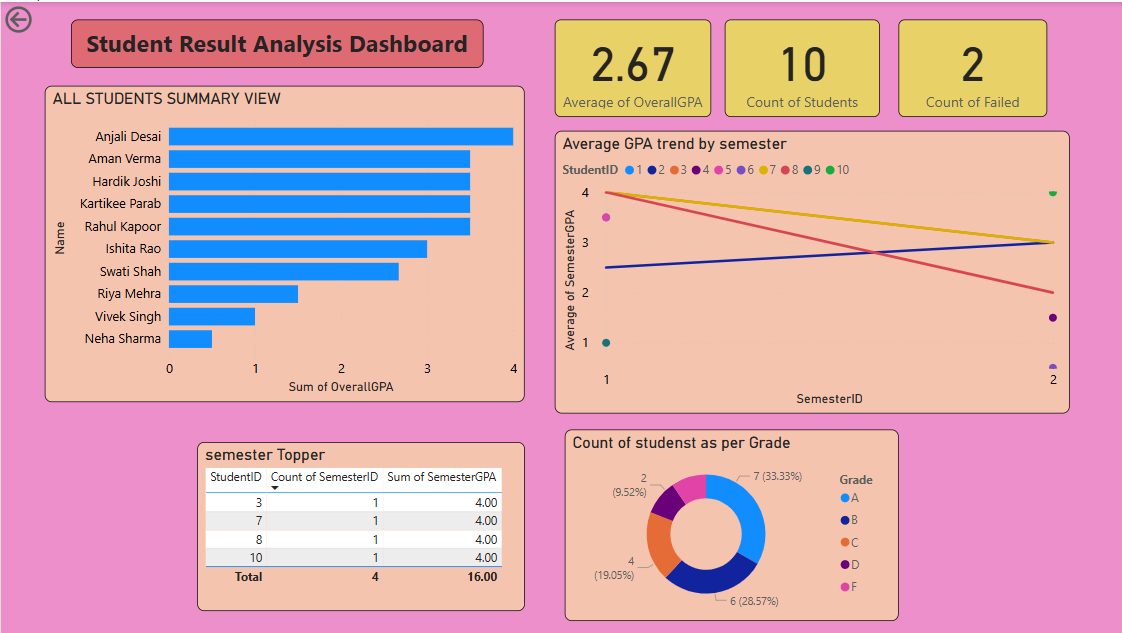

What the dashboard file says about the page in this screenshot:
{"tool":"powerbi","page":{"name":"Page 1","canvas":[1280,720],"ordinal":0},"visuals":[{"type":"barChart","title":"ALL STUDENTS SUMMARY VIEW","fields":{"Category":["AllStudentsSummaryView.Name"],"Y":["AllStudentsSummaryView.OverallGPA"]},"box":[49.9,95.5,547.3,360.6],"z":0},{"type":"card","fields":{"Values":["AllStudentsSummaryView.OverallGPA"]},"box":[631.4,20,178.2,111.2],"z":1000},{"type":"card","fields":{"Values":["AllStudentsSummaryView.StudentID"]},"box":[825.3,20,176.7,111.2],"z":2000},{"type":"card","fields":{"Values":["FailedSubjects.Marks"]},"box":[1023.4,20,169.6,111.2],"z":3000},{"type":"lineChart","title":"Average GPA trend by semester","fields":{"Category":["SemesterGPAView.SemesterID"],"Y":["SemesterGPAView.SemesterGPA"],"Series":["SemesterGPAView.StudentID"]},"box":[631.4,146.8,587.3,322.1],"z":4000},{"type":"tableEx","title":"semester Topper","fields":{"Values":["SemesterTopperView.StudentID","SemesterTopperView.SemesterID","SemesterTopperView.SemesterGPA"]},"box":[223.8,501.7,373.5,192.4],"z":4001},{"type":"actionButton","box":[0,0,100,40],"z":4002},{"type":"textbox","box":[79.8,20,470.4,55.6],"z":4003},{"type":"donutChart","title":"Count of studenst as per Grade","fields":{"Category":["StudentFullResult.Grade"],"Y":["StudentFullResult.Grade"]},"box":[642.9,487.5,380.6,218.1],"z":4004}]}

Visuals, with their boxes in screenshot pixels (x1, y1, x2, y2), scaled from the page's 1280x720 canvas onto the 1122x633 screenshot:
"ALL STUDENTS SUMMARY VIEW" barChart: <box>44,84,523,401</box>
card - AllStudentsSummaryView.OverallGPA: <box>553,18,710,115</box>
card - AllStudentsSummaryView.StudentID: <box>723,18,878,115</box>
card - FailedSubjects.Marks: <box>897,18,1046,115</box>
"Average GPA trend by semester" lineChart: <box>553,129,1068,412</box>
"semester Topper" tableEx: <box>196,441,524,610</box>
actionButton: <box>0,0,88,35</box>
textbox: <box>70,18,482,66</box>
"Count of studenst as per Grade" donutChart: <box>564,429,897,620</box>
